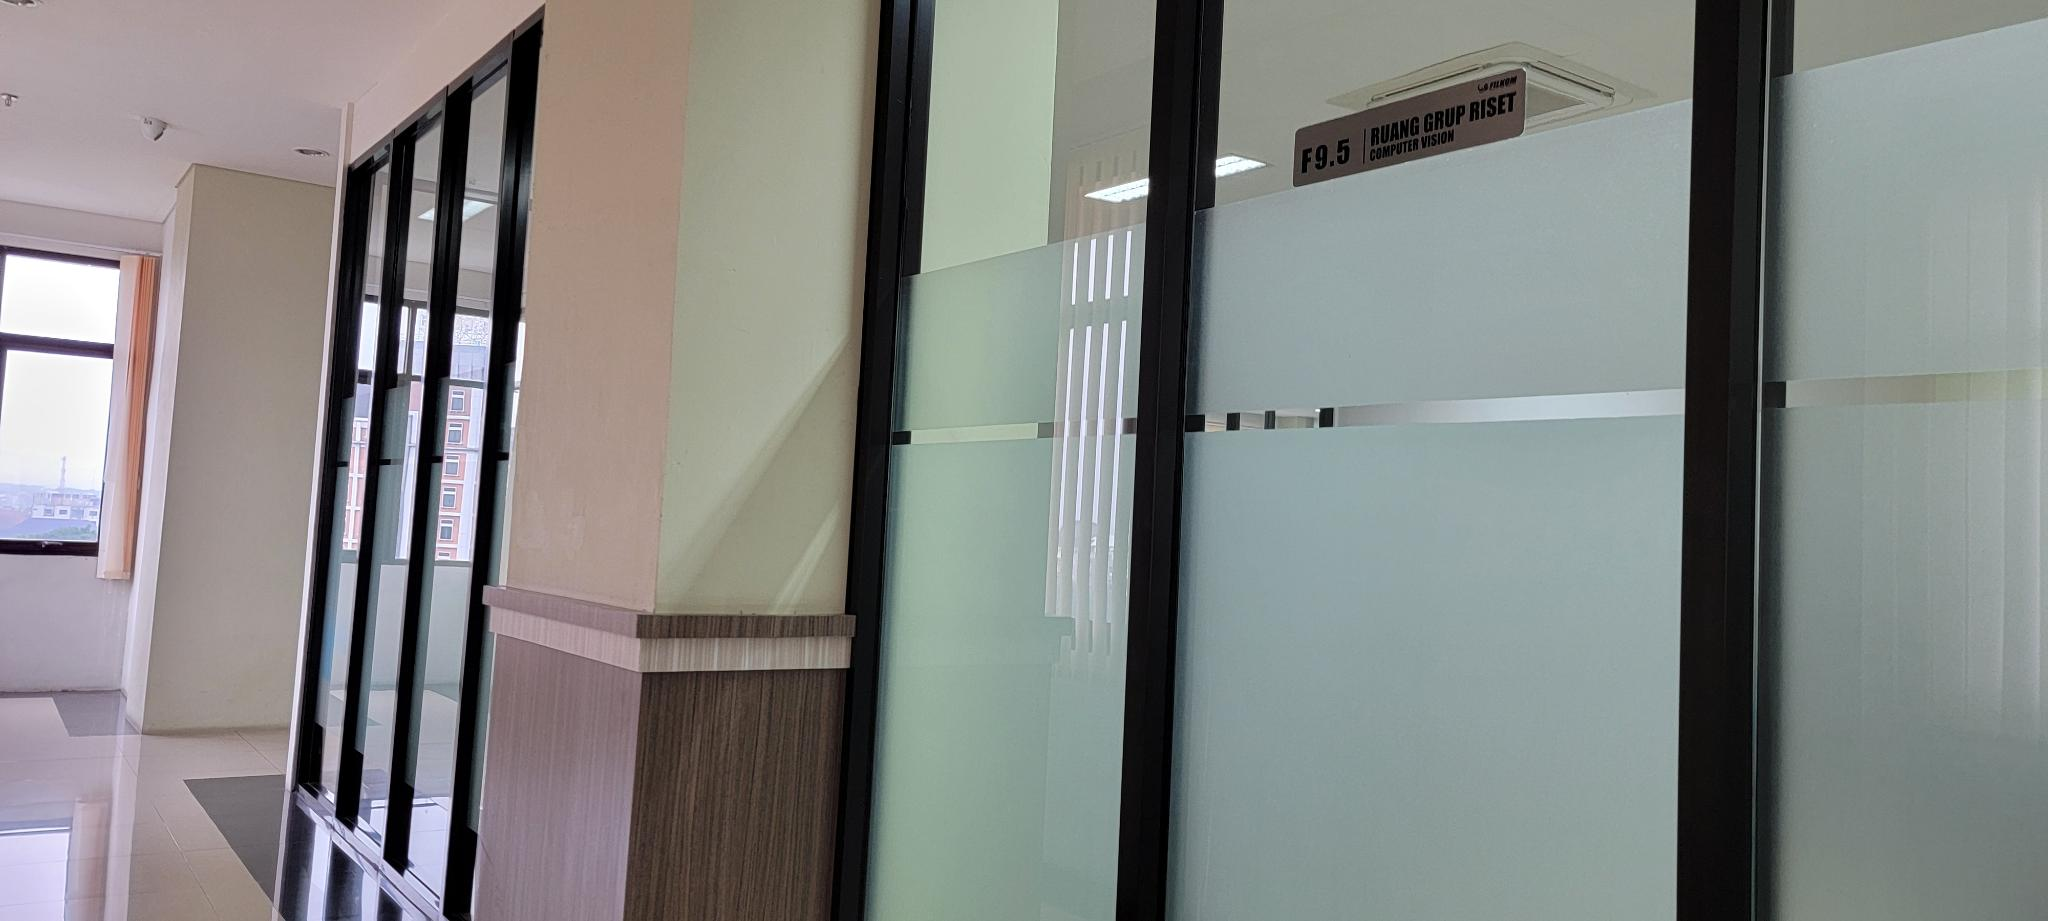plate: (1292, 67, 1528, 189)
